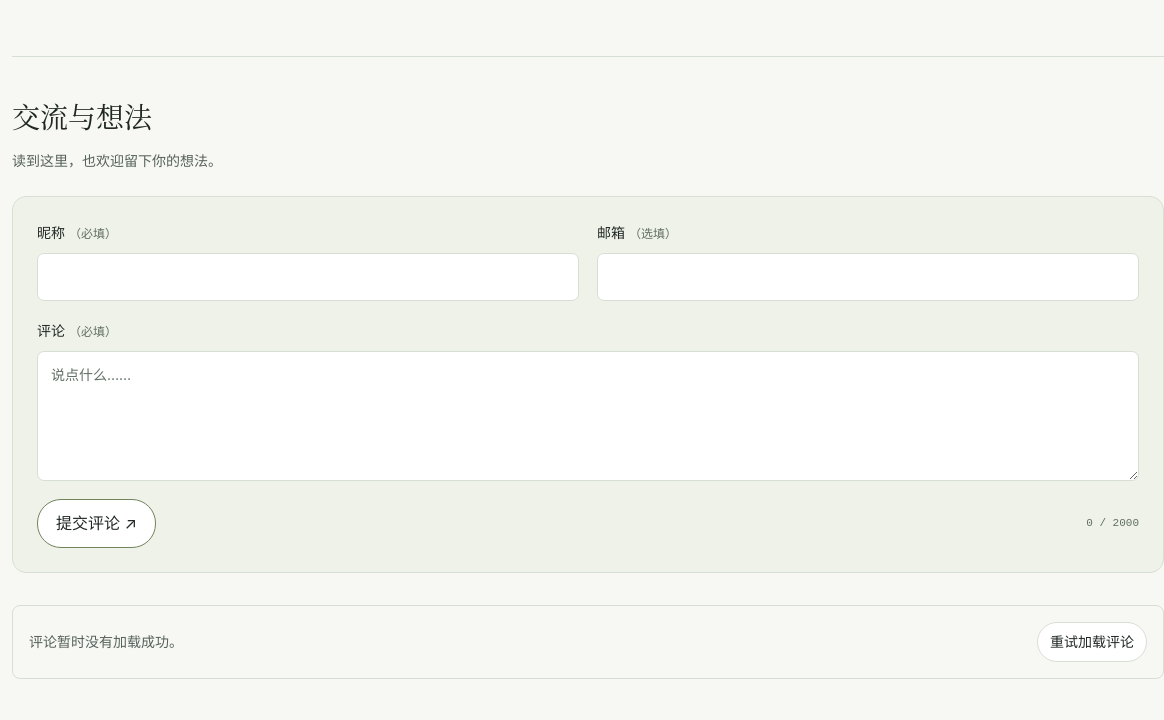
Test: Comments › distinguishes a failed request from an empty list and retries
Expected: the message shows "评论暂时没有加载成功", [29, 633, 183, 650]
Expected: the text "还没有评论，来留下第一条吧。" is not shown
What coordinates should you click on to do the following:
click the button "重试加载评论"
I would click on:
 (1092, 642)
Its box is [1037, 622, 1147, 662].
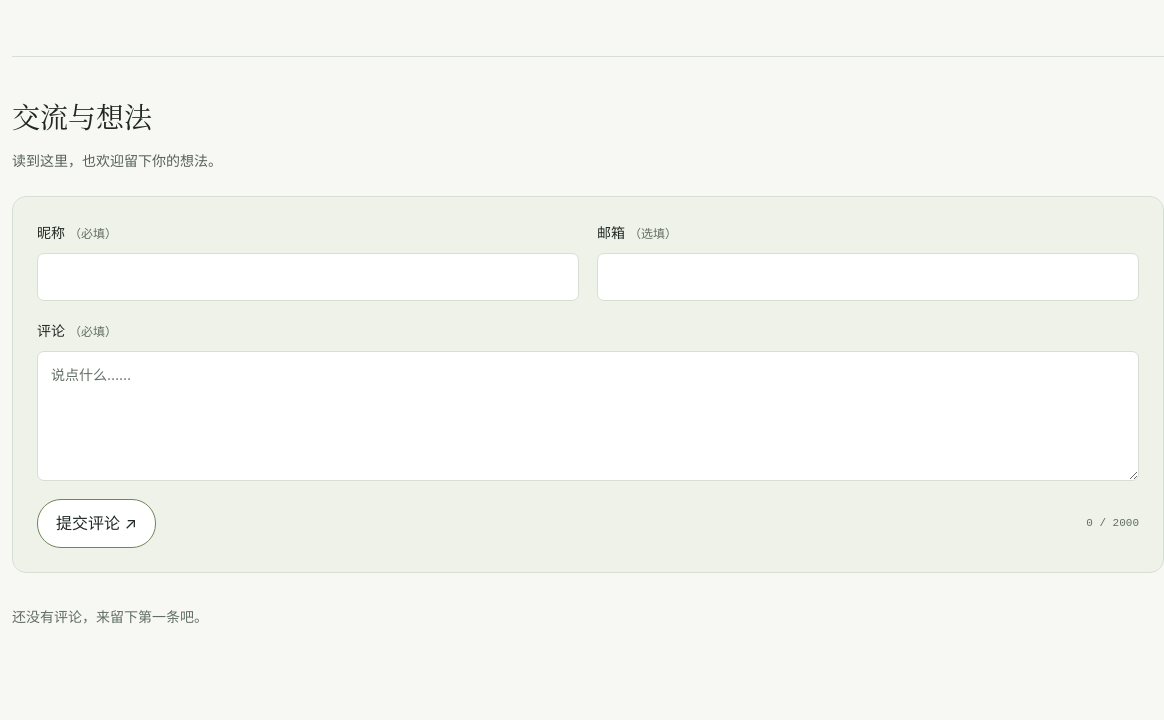
Expected: the text "还没有评论，来留下第一条吧。" is shown, [12, 608, 208, 625]
